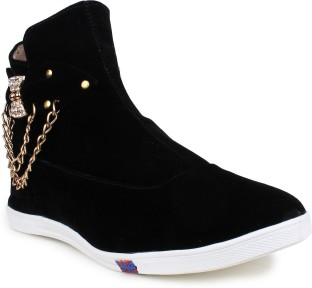Shoes: (8, 6, 312, 276)
